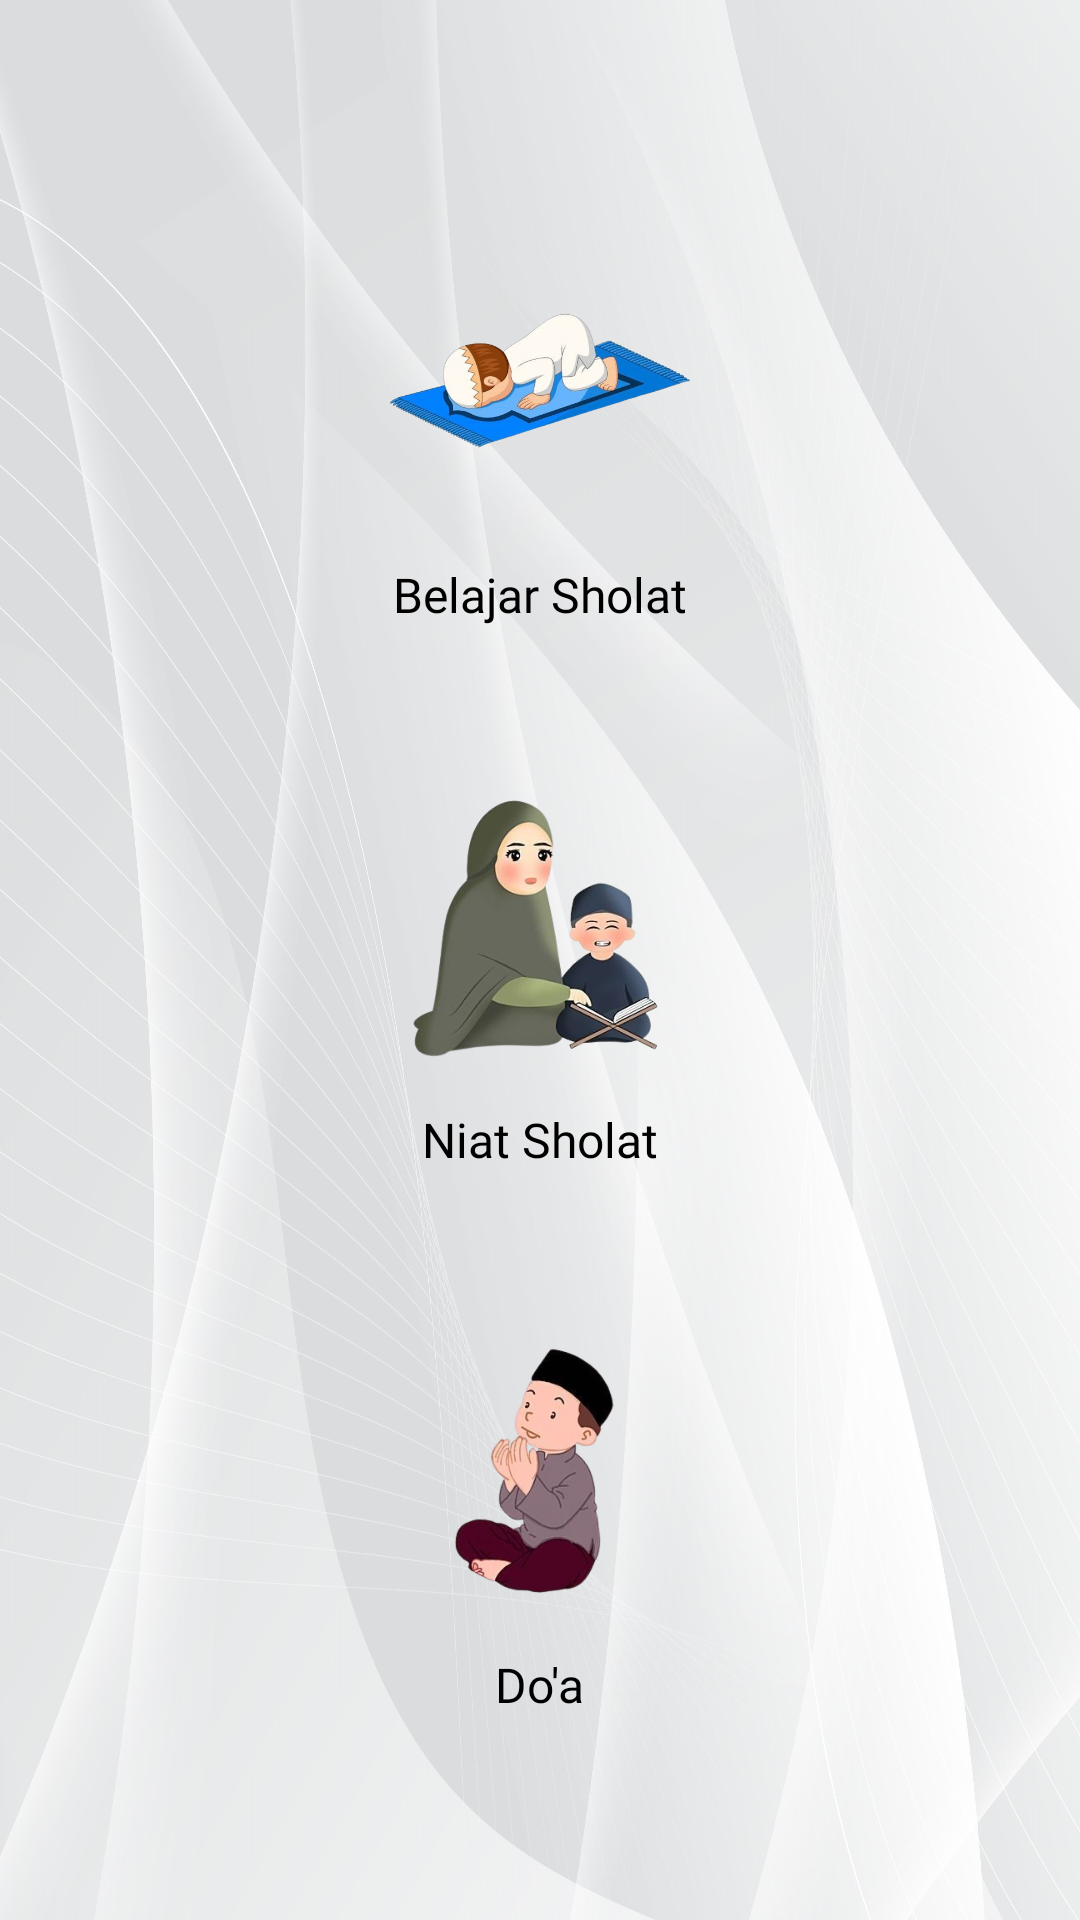

Icon click points for this 1080 x 1920 phone screenshot, format (x,y):
bacaansholat: (535,928)
